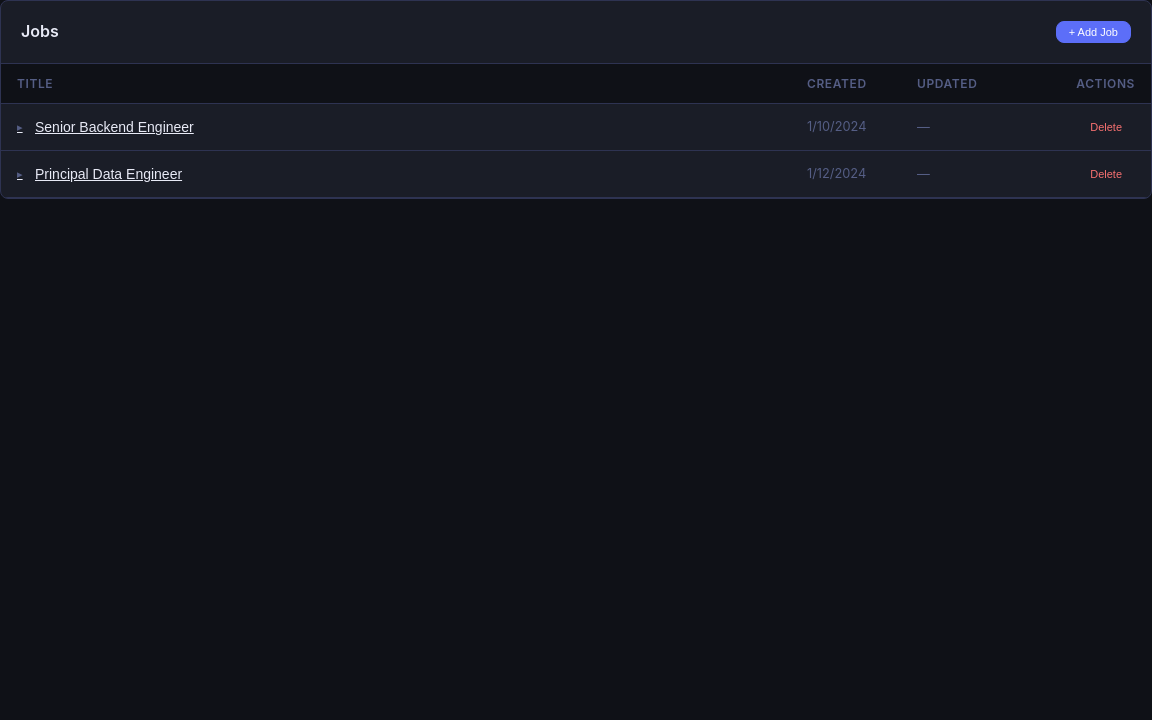
Test: JobBoard › clicking Delete shows cascade confirmation modal
The image size is (1152, 720).
Step 1. Click the button "Delete" in the row of "1/10/2024" → (1106, 127), box [1077, 116, 1135, 138]
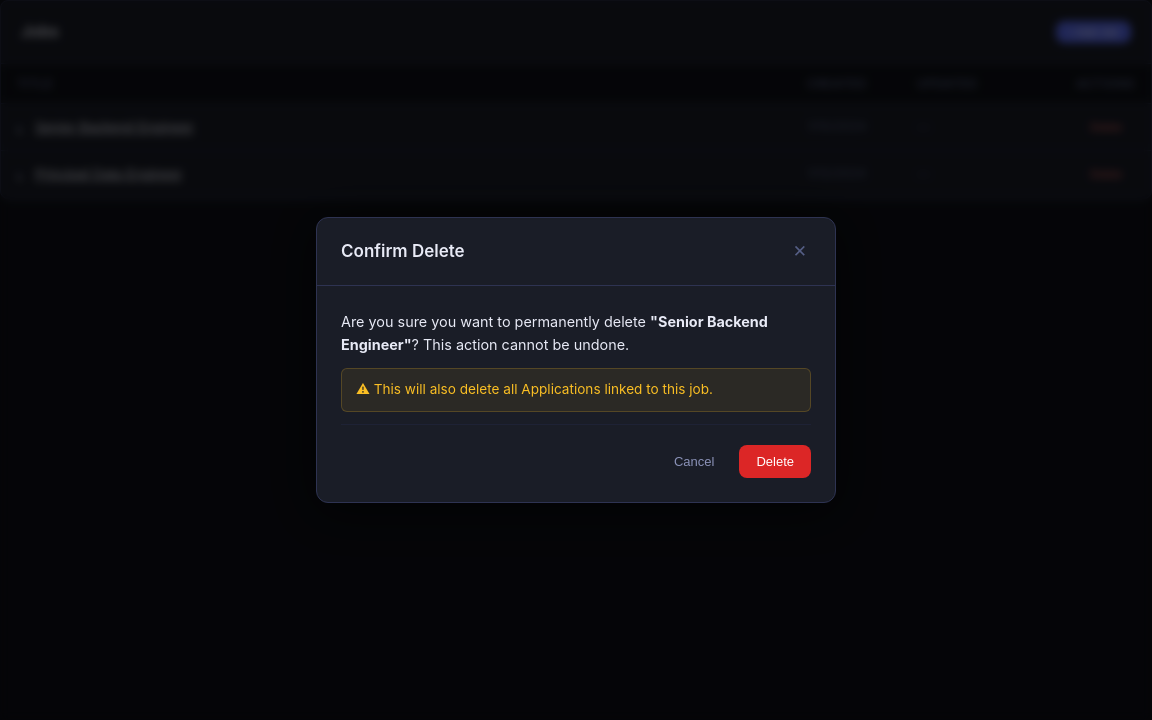
Result: the text "⚠ This will also delete all Applications linked to this job." is shown at [341, 368, 811, 412]
